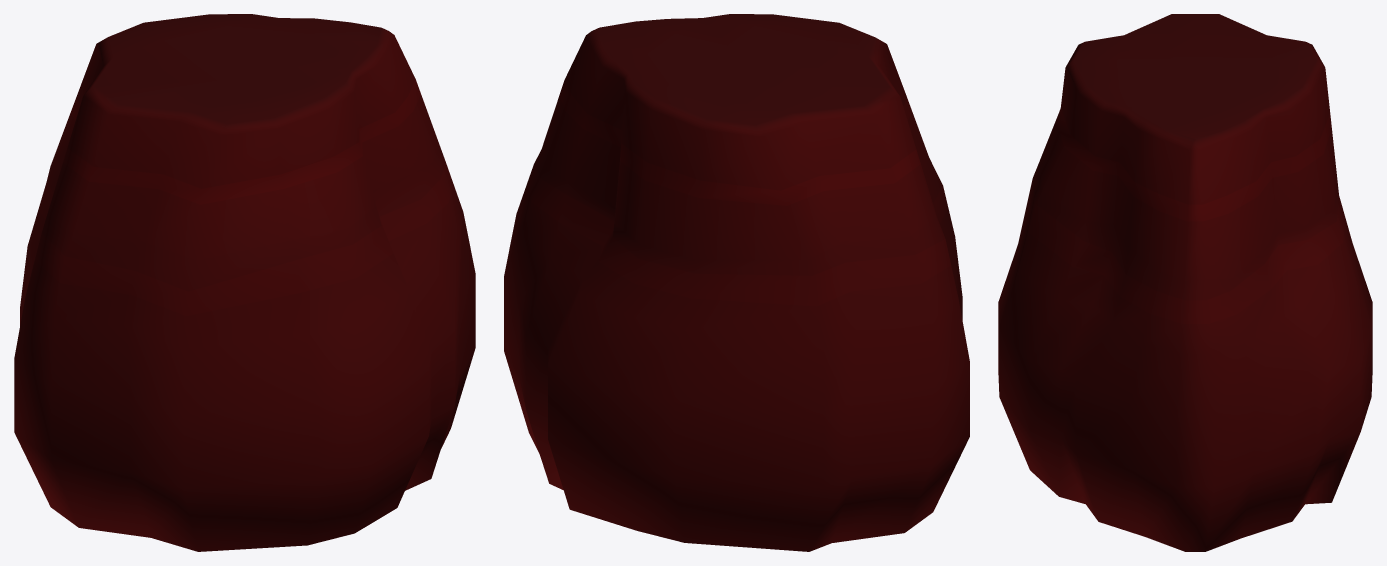
The model's file is geology-landforms-alienplateularge_v2.fbx.
3 views of the same model, side by side, from view 1: azimuth 30°, elevation 25°; view 2: azimuth 150°, elevation 25°; view 3: azimuth 270°, elevation 25° (orthographic). The views are drawn at different scales.
Parts seen in each view (by area): view 1: AlienPlateuLarge_v2; view 2: AlienPlateuLarge_v2; view 3: AlienPlateuLarge_v2.
Boxes of the visible parts, x1=… form: AlienPlateuLarge_v2: x1=14, y1=14, x2=475, y2=551; AlienPlateuLarge_v2: x1=504, y1=14, x2=969, y2=551; AlienPlateuLarge_v2: x1=998, y1=14, x2=1372, y2=551.
Bounding box in the file's own units: 31.38 × 28.57 × 25.25.
